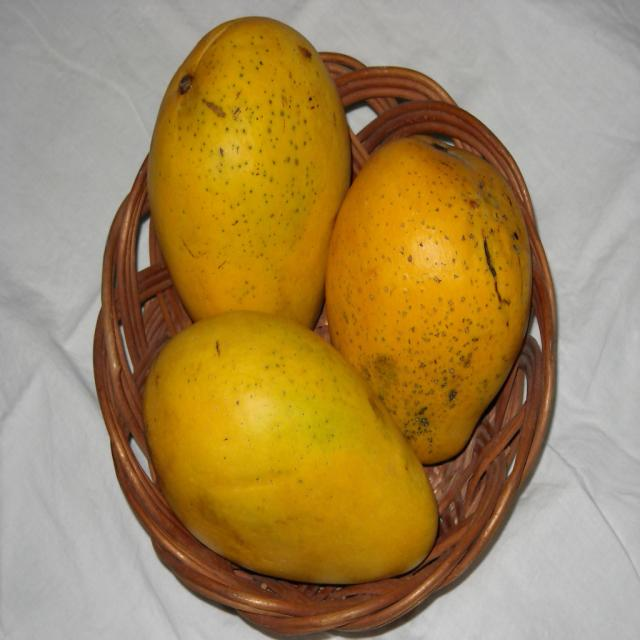Mango: (132, 312, 464, 596), (140, 8, 360, 350), (319, 132, 546, 460)
